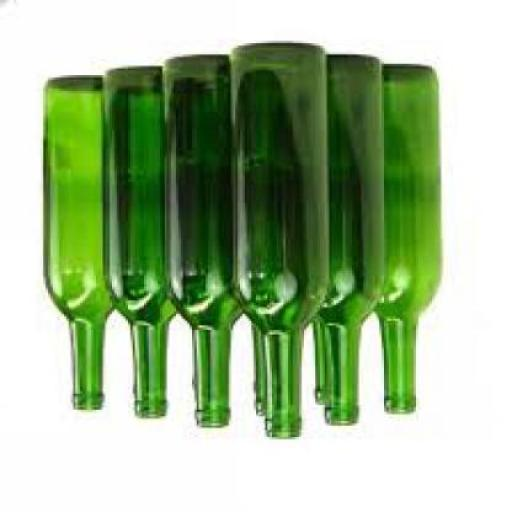glass: (233, 45, 332, 442), (167, 59, 244, 431), (105, 71, 181, 420), (318, 57, 386, 428), (372, 68, 444, 417), (48, 78, 122, 412), (256, 321, 270, 419), (313, 314, 327, 407)
